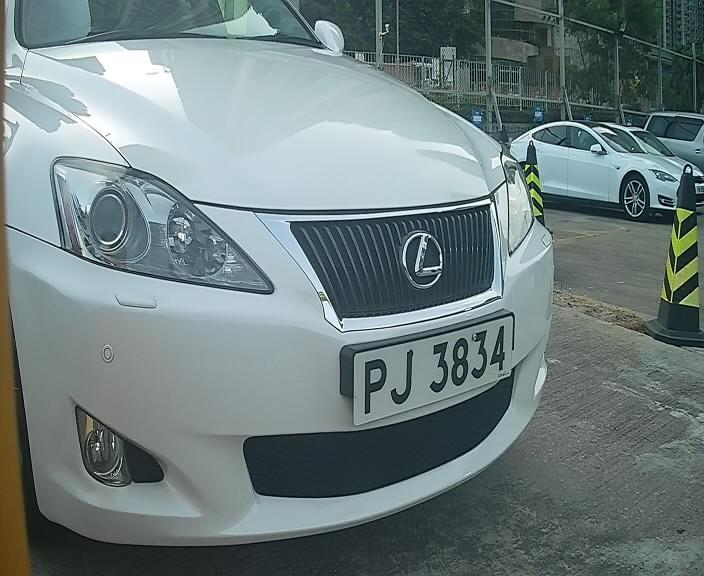privatecar: (10, 8, 563, 553)
